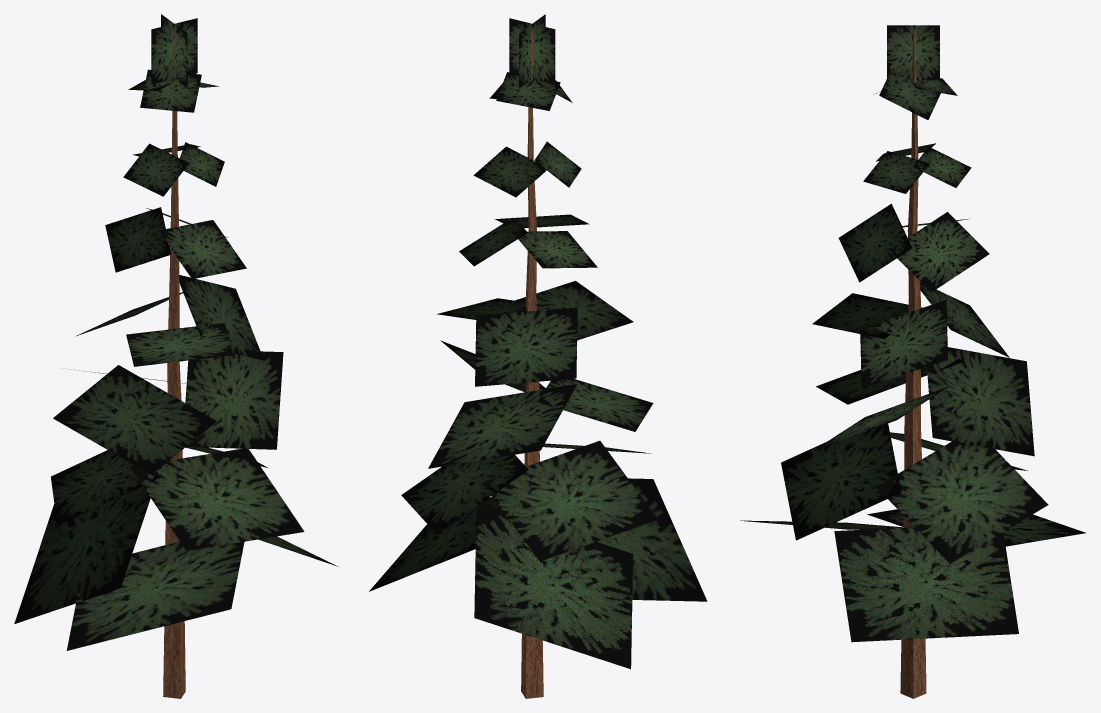
The model's file is Pine_4_LOD2.gltf.
The picture shows the model from 3 angles, left to right: view 1: azimuth 30°, elevation 25°; view 2: azimuth 150°, elevation 25°; view 3: azimuth 270°, elevation 25°; orthographic projection.
Visible parts, largest first — view 1: Pine_4_LOD2; view 2: Pine_4_LOD2; view 3: Pine_4_LOD2.
Boxes of the visible parts, x1,y1,x2,y2 form: Pine_4_LOD2: (14,14,338,698); Pine_4_LOD2: (369,14,707,698); Pine_4_LOD2: (740,25,1085,698).
Size of the model in its own units: 8.27 by 19.22 by 9.14.
2 materials, 2 textured.
